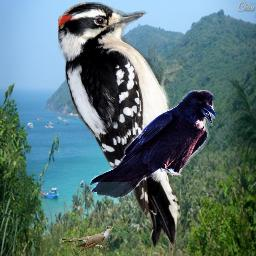Crow: (90, 90, 216, 198)
Cuckoo: (60, 226, 113, 253)
Woodpecker: (58, 2, 182, 248)
